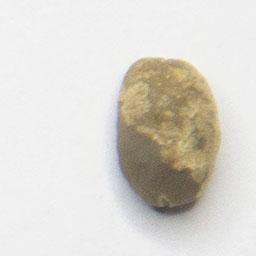peaberry: (113, 53, 224, 212)
